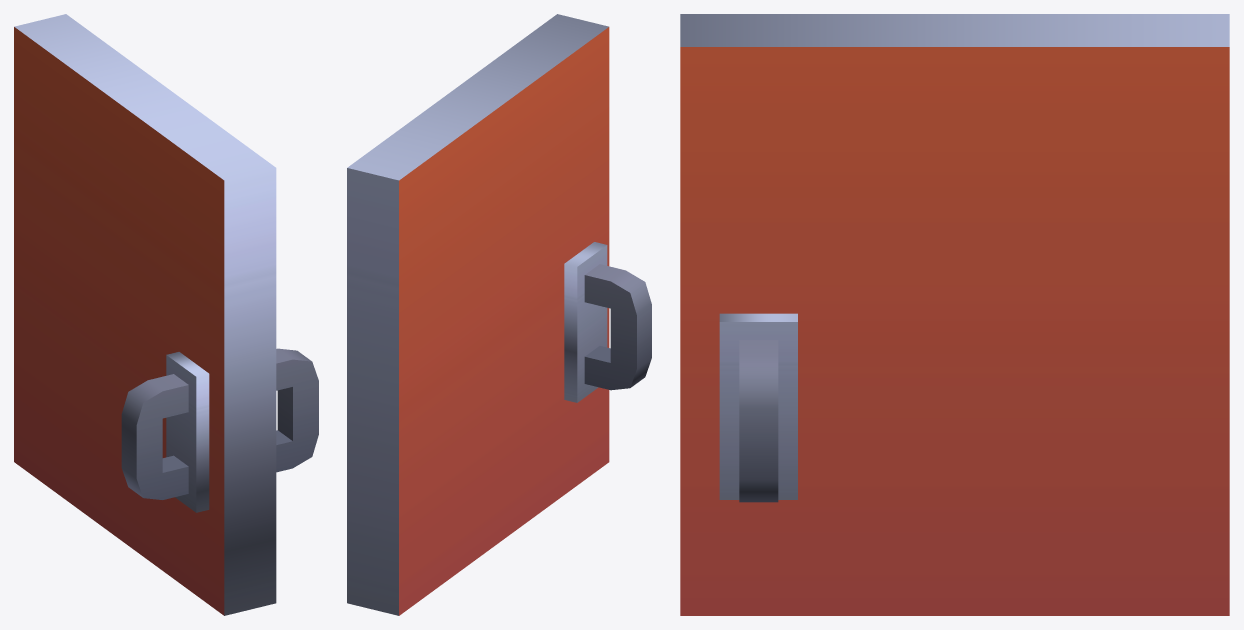
File: kenney-prototype-door-sliding.glb
The picture shows the model from 3 angles, left to right: view 1: azimuth 30°, elevation 25°; view 2: azimuth 150°, elevation 25°; view 3: azimuth 270°, elevation 25°; orthographic projection. The views are drawn at different scales.
Visible parts, largest first — view 1: door; view 2: door; view 3: door.
Part boxes in pixels (x1,y1,x2,y2): door: (14, 14, 318, 615); door: (347, 14, 651, 615); door: (680, 14, 1229, 615).
Bounding box in the file's own units: 0.35 × 0.8 × 0.7.
1 material, 1 textured.
